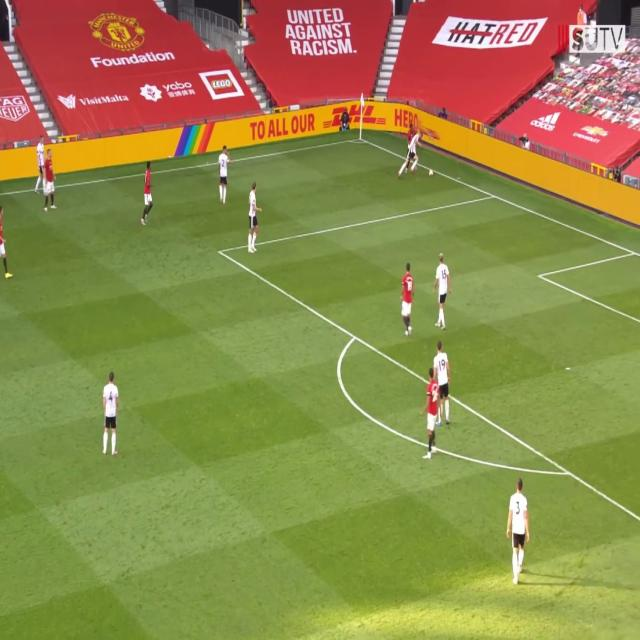Ball: (427, 163, 436, 180)
TEAM 1: (421, 366, 441, 456), (397, 262, 416, 337), (0, 199, 13, 281), (44, 148, 60, 214), (140, 160, 154, 225), (403, 114, 415, 145)
TEAM 2: (506, 471, 531, 584), (432, 248, 454, 333), (102, 369, 120, 462), (435, 342, 453, 422), (246, 176, 262, 262), (398, 131, 426, 175), (217, 139, 231, 206), (33, 135, 45, 201)
